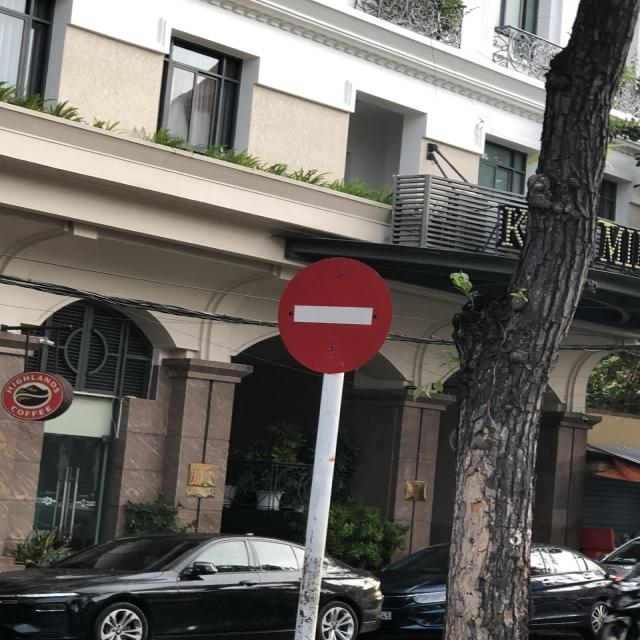Bien bao cam di nguoc chieu: (267, 250, 405, 384)
